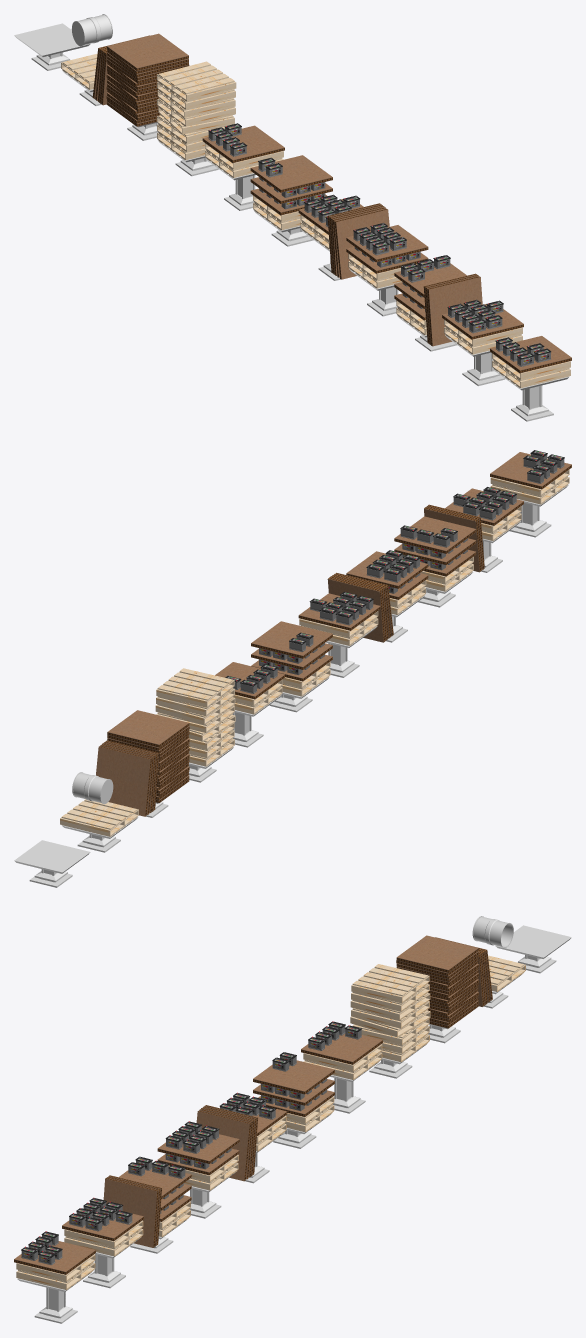
The model's file is Phase 2 Assembled models 1.fbx.
3 views of the same model, one above another, from view 1: azimuth 30°, elevation 25°; view 2: azimuth 150°, elevation 25°; view 3: azimuth 330°, elevation 25° (orthographic).
Visible parts, largest first — view 1: Cube.829, Carboard.001, Wooden krate.009, Carboard.026, Carboard.010, Carboard.023, Cube.321, Carboard.007, Carboard.018, Cylinder.023, Carboard.013, Wooden krate.001 (+13 smaller); view 2: Cube.829, Carboard.001, Carboard.006, Wooden krate.009, Wooden krate.001, Carboard.010, Cube.321, Carboard.016, Carboard.018, Carboard.019, Cylinder.023, Carboard.013 (+11 smaller); view 3: Cube.829, Carboard.001, Wooden krate.009, Carboard.026, Carboard.010, Carboard.023, Cube.321, Carboard.007, Carboard.018, Cylinder.023, Carboard.013, Wooden krate.001 (+15 smaller).
Boxes of the visible parts, x1=… form: Cube.829: x1=31, y1=52, x2=553, y2=421; Carboard.001: x1=106, y1=33, x2=189, y2=126; Wooden krate.009: x1=157, y1=61, x2=236, y2=101; Carboard.026: x1=427, y1=276, x2=482, y2=346; Carboard.010: x1=250, y1=155, x2=332, y2=192; Carboard.023: x1=334, y1=209, x2=389, y2=279; Cube.321: x1=14, y1=23, x2=90, y2=56; Carboard.007: x1=202, y1=125, x2=284, y2=162; Carboard.018: x1=490, y1=336, x2=571, y2=373; Cylinder.023: x1=71, y1=14, x2=112, y2=46; Carboard.013: x1=346, y1=225, x2=428, y2=262; Wooden krate.001: x1=61, y1=53, x2=97, y2=89; Cube.829: x1=29, y1=503, x2=551, y2=887; Carboard.001: x1=107, y1=710, x2=189, y2=803; Carboard.006: x1=96, y1=746, x2=151, y2=816; Wooden krate.009: x1=156, y1=668, x2=234, y2=707; Wooden krate.001: x1=60, y1=799, x2=138, y2=836; Carboard.010: x1=251, y1=621, x2=332, y2=658; Cube.321: x1=14, y1=840, x2=90, y2=873; Carboard.016: x1=394, y1=516, x2=476, y2=553; Carboard.018: x1=490, y1=452, x2=571, y2=489; Carboard.019: x1=327, y1=577, x2=385, y2=642; Cylinder.023: x1=72, y1=772, x2=113, y2=804; Carboard.013: x1=346, y1=551, x2=428, y2=588; Cube.829: x1=34, y1=955, x2=556, y2=1323; Carboard.001: x1=396, y1=935, x2=478, y2=1028; Wooden krate.009: x1=351, y1=964, x2=429, y2=1003; Carboard.026: x1=103, y1=1178, x2=158, y2=1247; Carboard.010: x1=253, y1=1060, x2=334, y2=1094; Carboard.023: x1=196, y1=1110, x2=251, y2=1181; Cube.321: x1=495, y1=925, x2=571, y2=958; Carboard.007: x1=301, y1=1033, x2=382, y2=1064; Carboard.018: x1=14, y1=1241, x2=95, y2=1274; Cylinder.023: x1=472, y1=916, x2=513, y2=947; Carboard.013: x1=157, y1=1130, x2=239, y2=1163; Wooden krate.001: x1=488, y1=955, x2=525, y2=991.
Size of what is drawn, in the model's own units: 110 by 171 by 1753.
